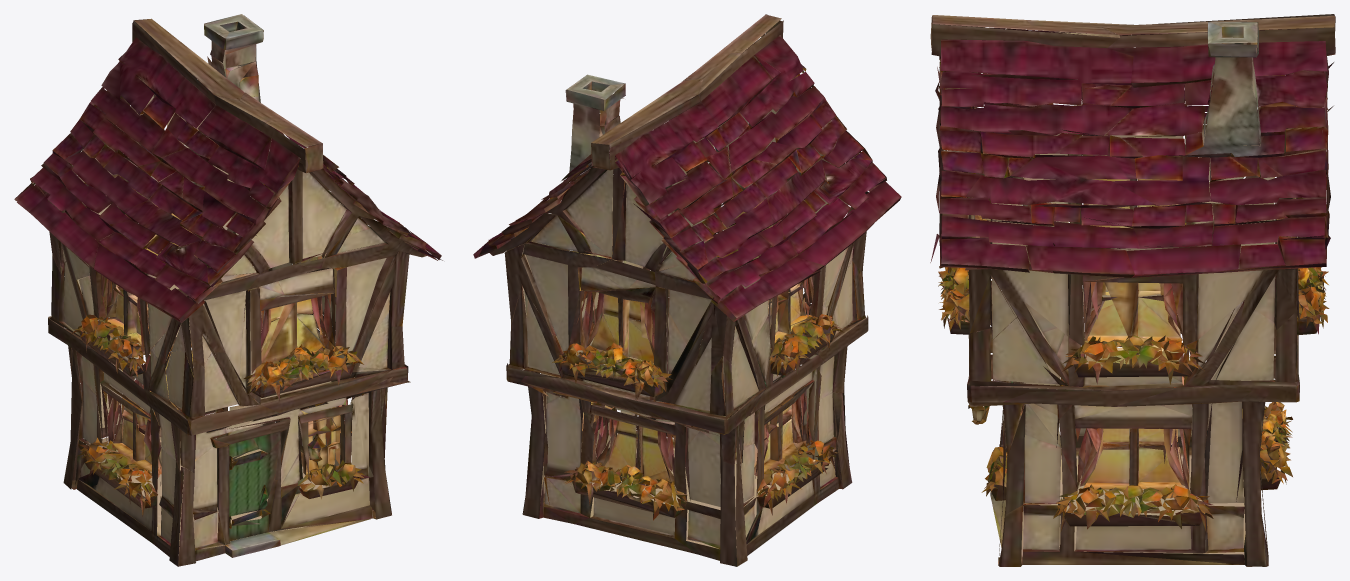
The model's file is house_a.glb.
3 views of the same model, side by side, from view 1: azimuth 30°, elevation 25°; view 2: azimuth 150°, elevation 25°; view 3: azimuth 270°, elevation 25° (orthographic). The views are drawn at different scales.
Parts seen in each view (by area): view 1: Mesh_0; view 2: Mesh_0; view 3: Mesh_0.
Boxes of the visible parts, left/top/right/bottom form: Mesh_0: left=14, top=14, right=442, bottom=566; Mesh_0: left=473, top=14, right=901, bottom=566; Mesh_0: left=930, top=14, right=1335, bottom=566.
Size of the model in its own units: 1.25 by 1.9 by 1.39.
Materials: 1 (1 with a texture image).
